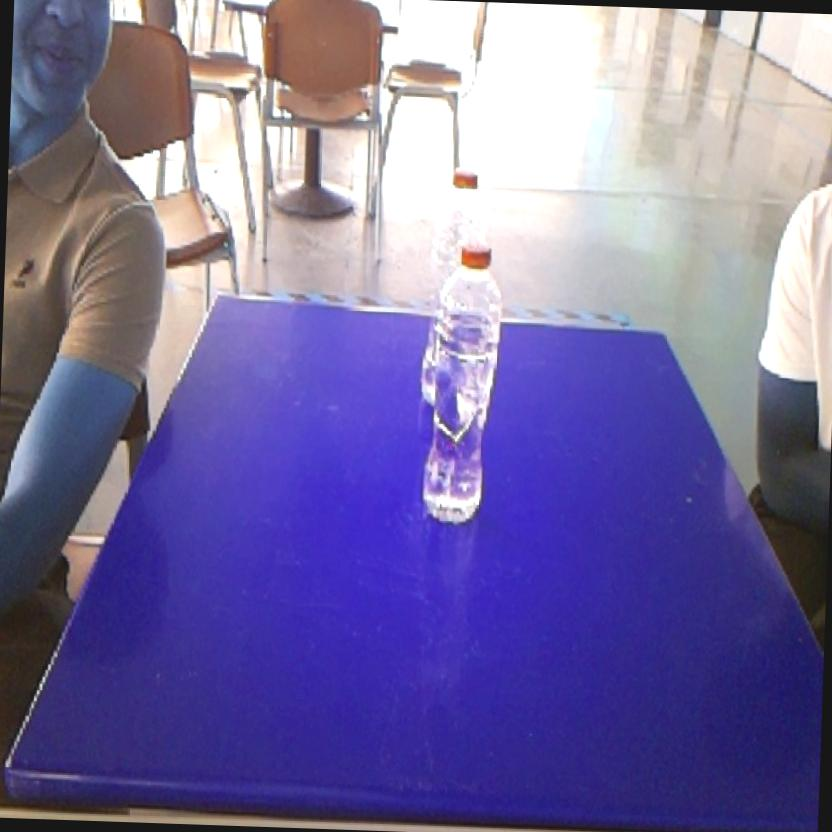no_label: (414, 235, 514, 535), (428, 152, 503, 244)
